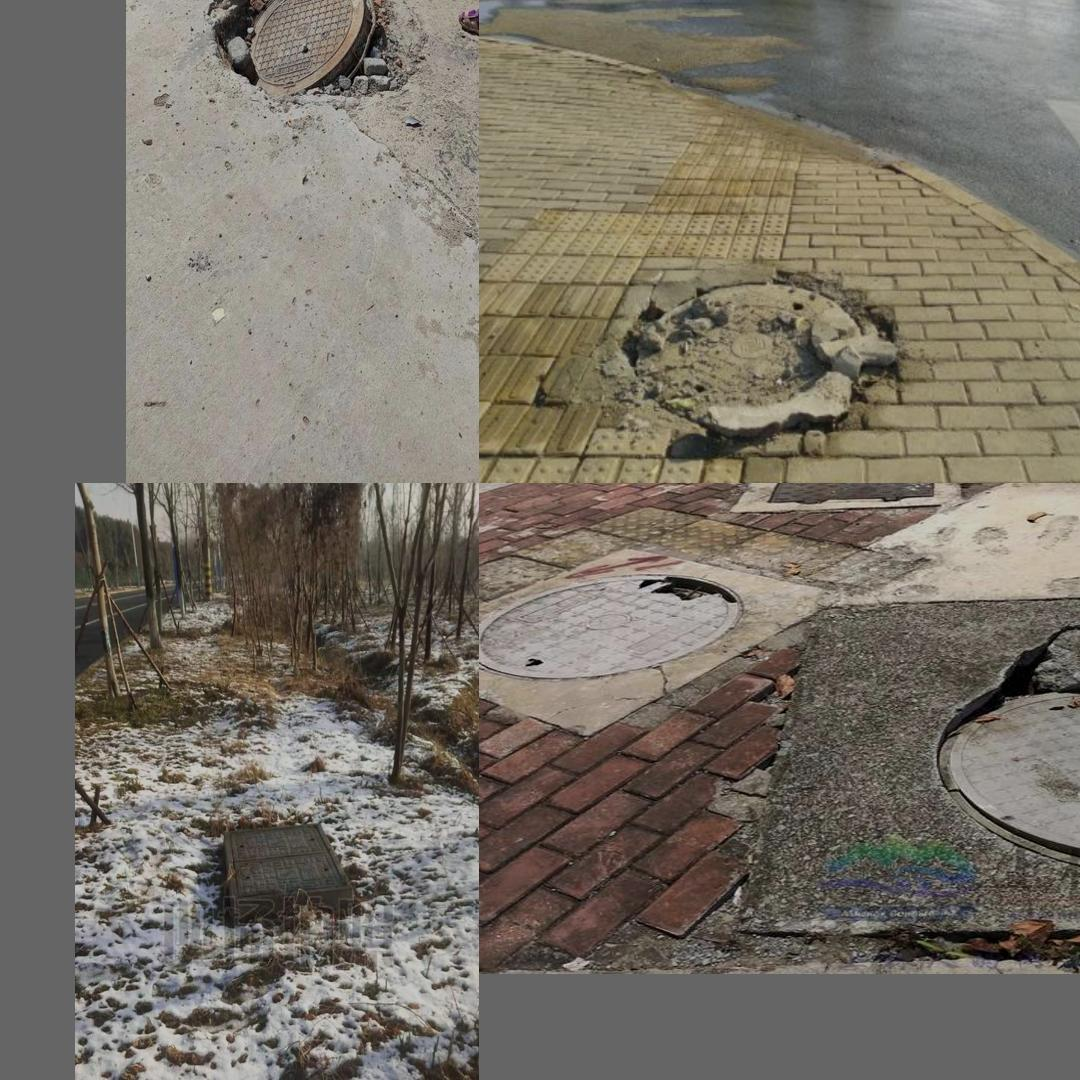circle: (723, 581, 1080, 936), (590, 252, 899, 444), (180, 0, 431, 141), (216, 822, 362, 932)
